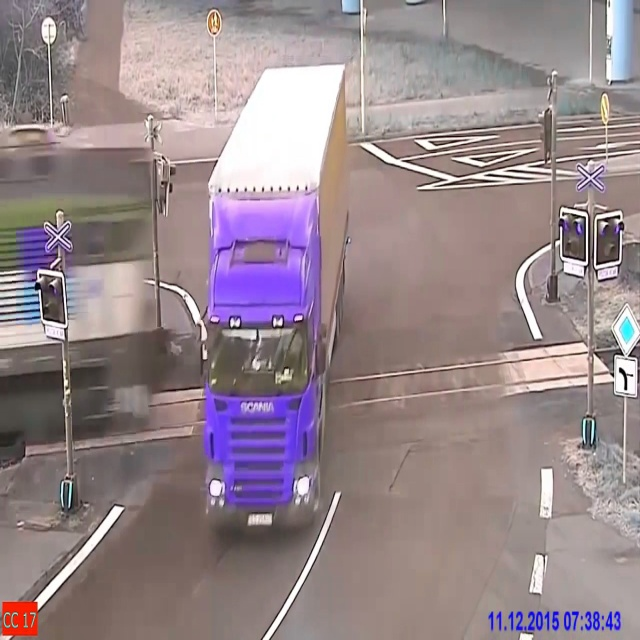acc: (1, 107, 343, 518)
